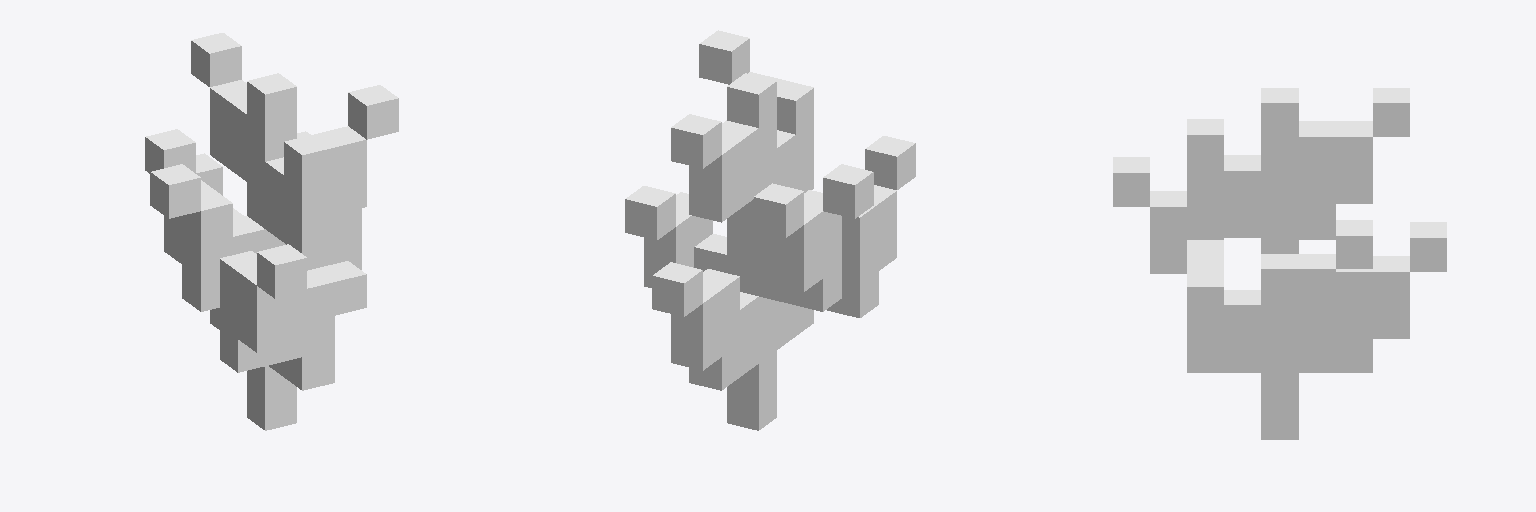
The model's file is cactus_3.obj.
The picture shows the model from 3 angles: view 1: azimuth 30°, elevation 25°; view 2: azimuth 150°, elevation 25°; view 3: azimuth 270°, elevation 25°; orthographic projection.
Parts seen in each view (by area): view 1: object 1; view 2: object 1; view 3: object 1.
Boxes of the visible parts, x1,y1,x2,y2 form: object 1: [145, 33, 398, 430]; object 1: [625, 30, 915, 430]; object 1: [1113, 88, 1446, 439].
Bounding box in the file's own units: 0.6 × 1 × 0.9.